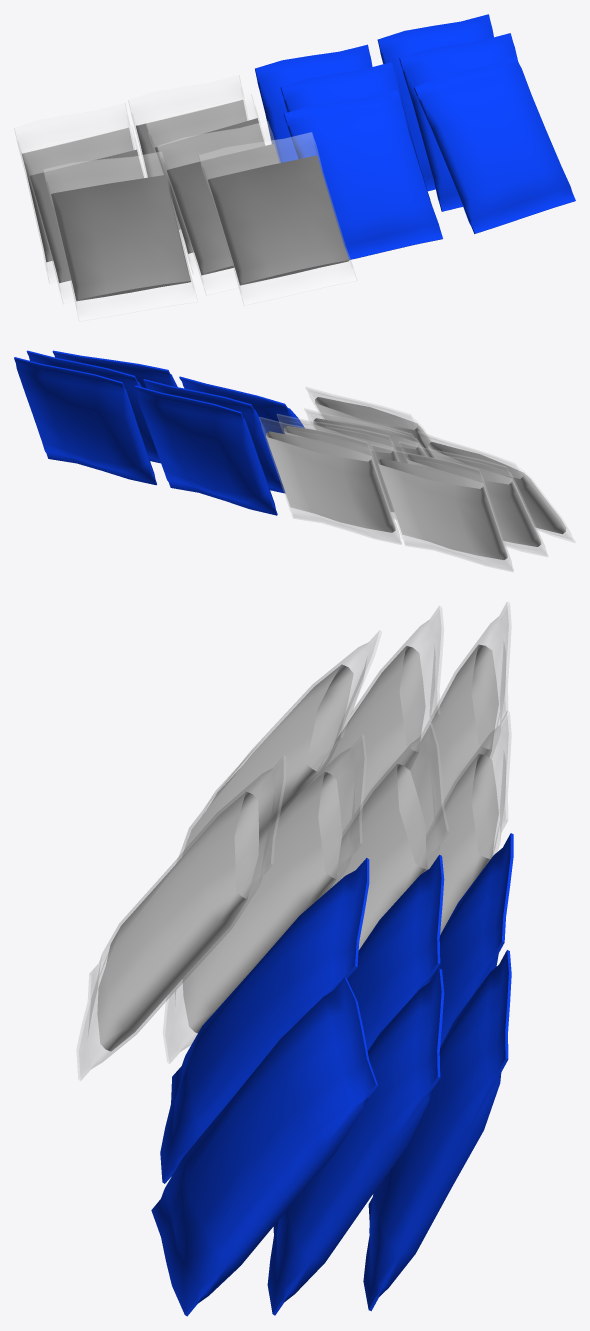
Rendered from CandyPack_qkmq5d_Pack01.fbx.
The picture shows the model from 3 angles, top to bottom: view 1: azimuth 30°, elevation 25°; view 2: azimuth 150°, elevation 25°; view 3: azimuth 270°, elevation 25°; orthographic projection. The views are drawn at different scales.
Parts seen in each view (by area): view 1: CandyPack_qkmq5d_Pack01; view 2: CandyPack_qkmq5d_Pack01; view 3: CandyPack_qkmq5d_Pack01.
Part boxes in pixels (left/top/right/bottom): CandyPack_qkmq5d_Pack01: left=14, top=14, right=575, bottom=321; CandyPack_qkmq5d_Pack01: left=14, top=350, right=575, bottom=571; CandyPack_qkmq5d_Pack01: left=76, top=601, right=513, bottom=1316.
Size of the model in its own units: 71.94 by 18.37 by 27.97.
